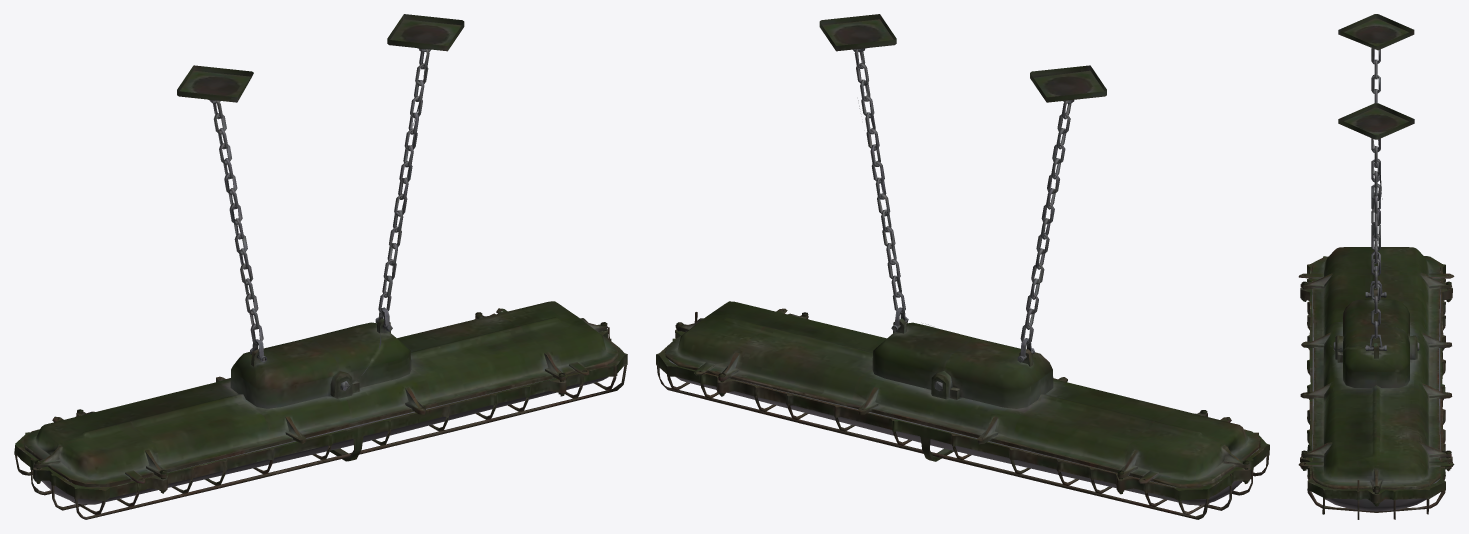
The model's file is caged_hanging_light.glb.
The picture shows the model from 3 angles, left to right: view 1: azimuth 30°, elevation 25°; view 2: azimuth 150°, elevation 25°; view 3: azimuth 270°, elevation 25°; orthographic projection. The views are drawn at different scales.
Visible parts, largest first — view 1: caged_hanging_light; view 2: caged_hanging_light; view 3: caged_hanging_light.
Part boxes in pixels (<box>): caged_hanging_light: <box>14,14,627,519</box>; caged_hanging_light: <box>656,14,1269,519</box>; caged_hanging_light: <box>1298,14,1454,519</box>.
Bounding box in the file's own units: 1.16 × 0.7501 × 0.3149.
Materials: 1 (1 with a texture image).
